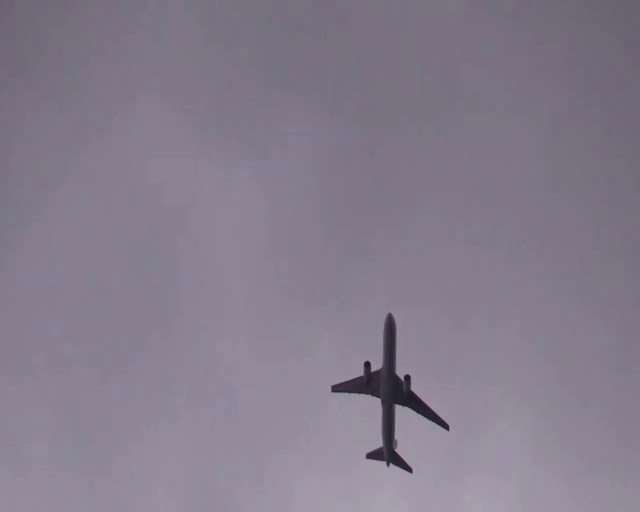AIRPLANE: (331, 311, 450, 472)
